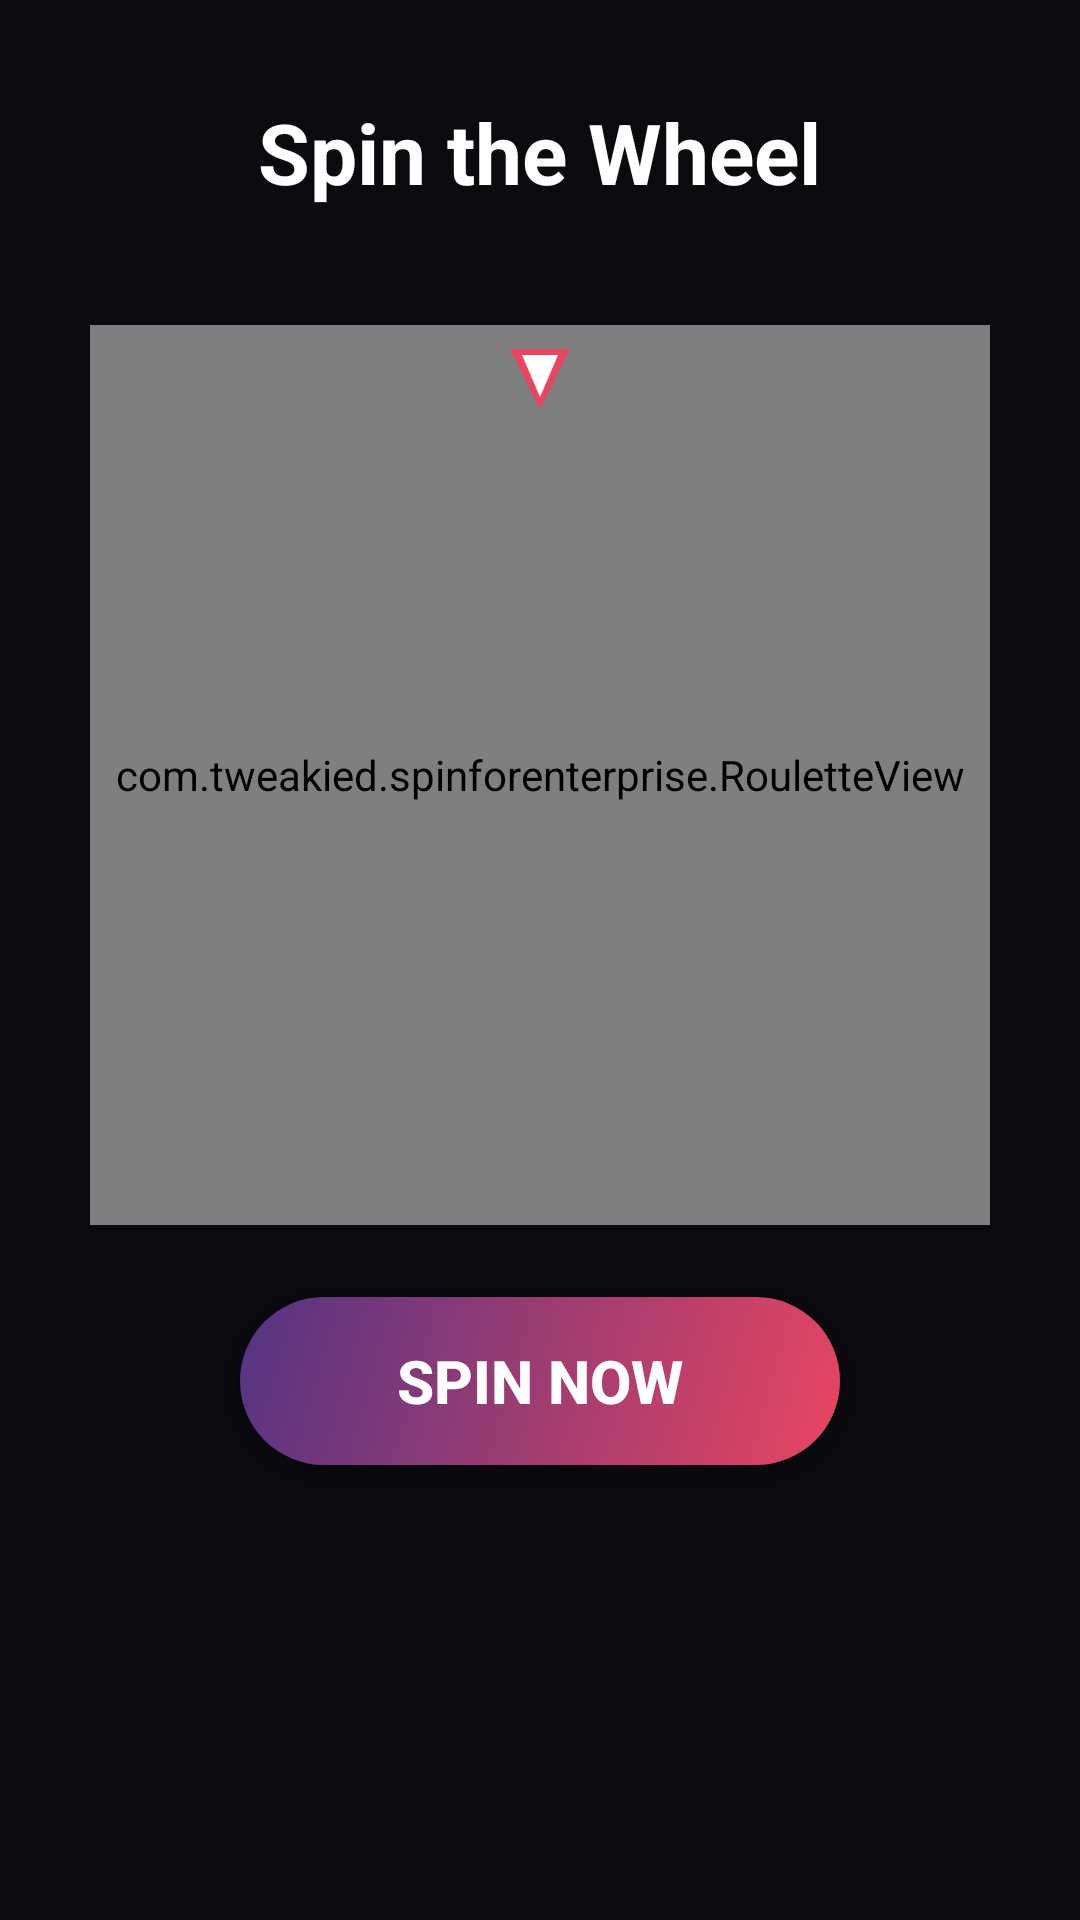

Icon click points for this 1080px x 1920px phone screenshot, format (x,y):
Pointer: (540,379)
